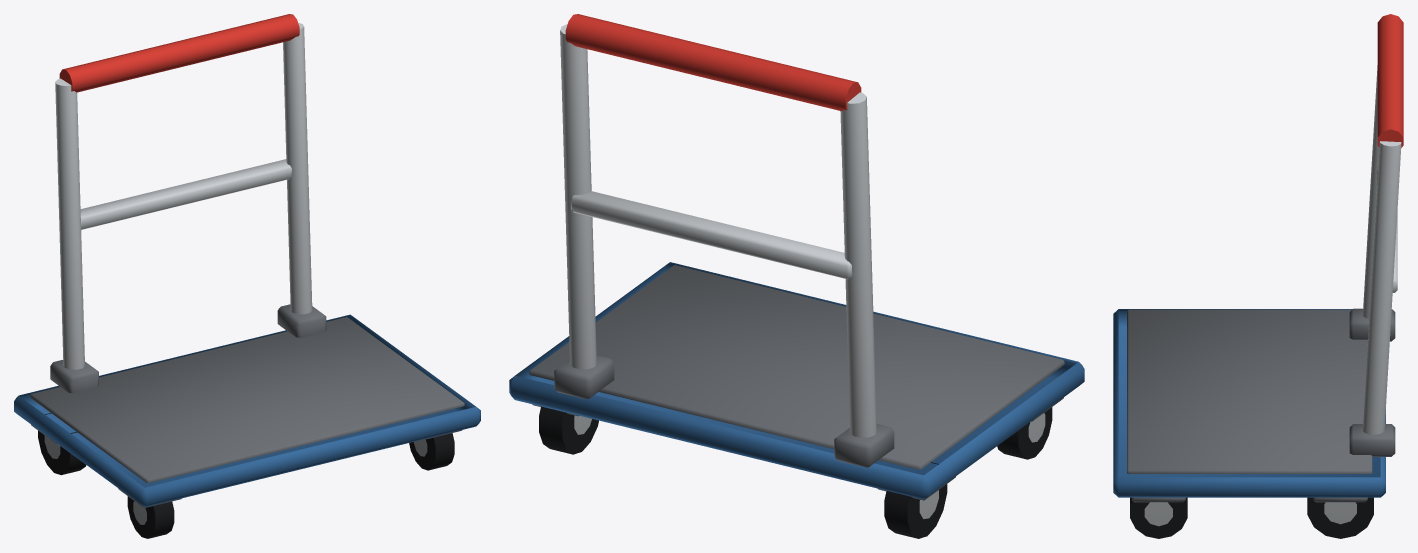
Rendered from SM_PlatformTruck_01.glb.
3 views of the same model, side by side, from view 1: azimuth 30°, elevation 25°; view 2: azimuth 150°, elevation 25°; view 3: azimuth 270°, elevation 25° (orthographic). The views are drawn at different scales.
Visible parts, largest first — view 1: SM_PlatformTruck_01; view 2: SM_PlatformTruck_01; view 3: SM_PlatformTruck_01.
Part boxes in pixels (bbox=[...]): SM_PlatformTruck_01: bbox=[14, 14, 480, 538]; SM_PlatformTruck_01: bbox=[509, 14, 1084, 538]; SM_PlatformTruck_01: bbox=[1113, 14, 1403, 538].
Bounding box in the file's own units: 0.9 × 0.95 × 0.6385.
Materials: 1 (1 with a texture image).
